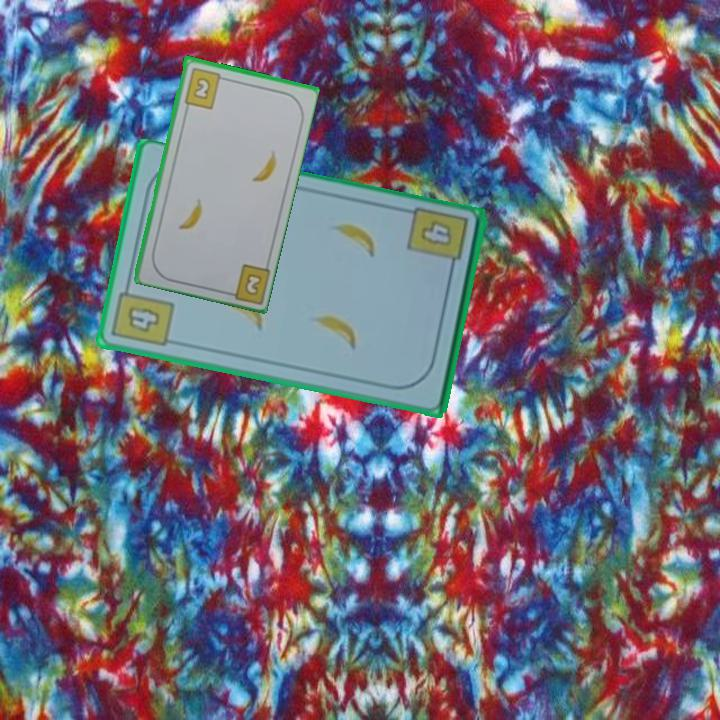2b: (180, 64, 229, 111), (241, 269, 265, 298)
4b: (404, 204, 471, 278), (108, 279, 177, 350)
